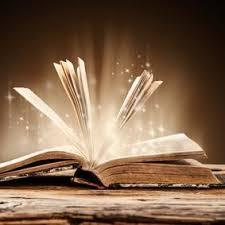Paper: (4, 53, 225, 215)
